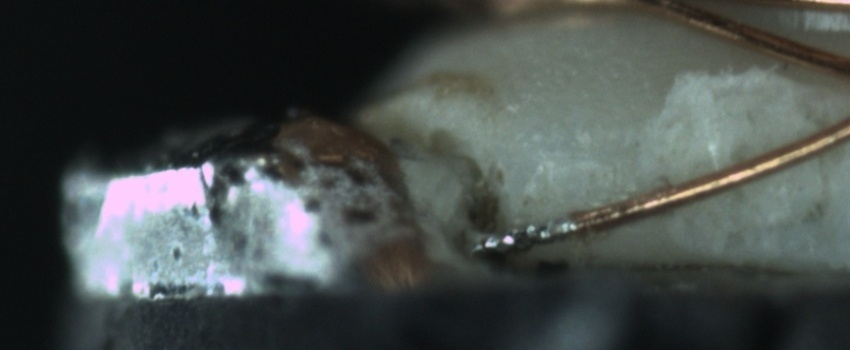DL: (532, 124, 627, 184)
TS: (478, 214, 583, 251)
TTCW: (472, 201, 616, 253)
